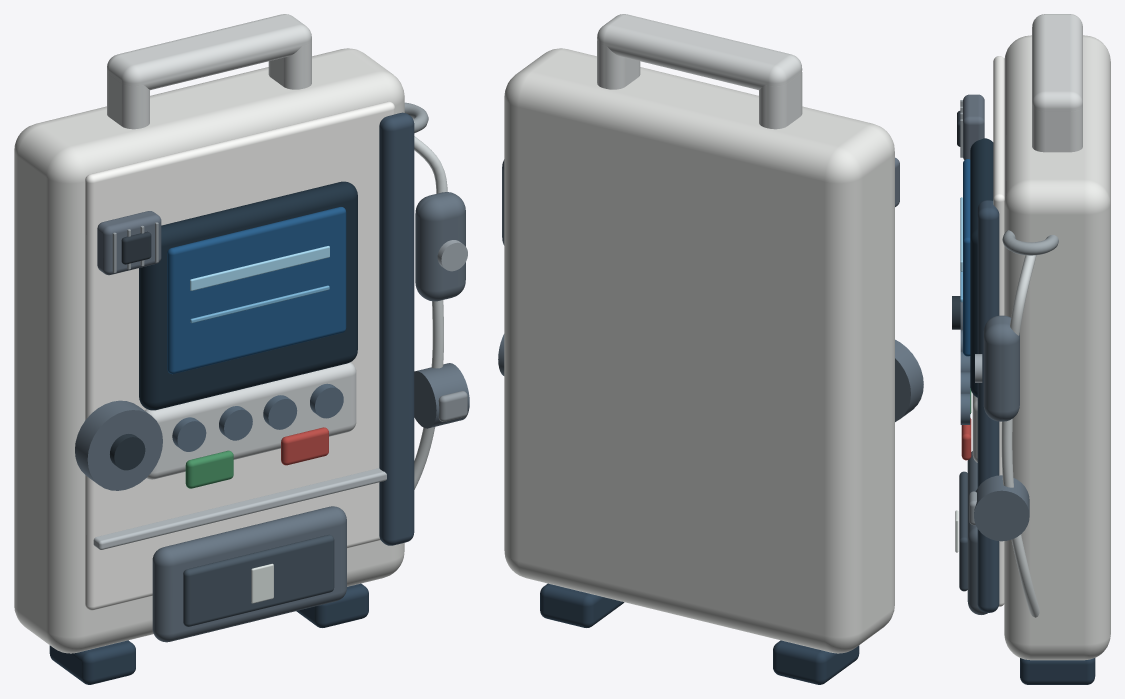
Rendered from infusion-pump.glb.
The picture shows the model from 3 angles, left to right: view 1: azimuth 30°, elevation 25°; view 2: azimuth 150°, elevation 25°; view 3: azimuth 270°, elevation 25°; orthographic projection. The views are drawn at different scales.
Visible parts, largest first — view 1: Outer Housing, Front Inset, Display Glass, Display Bezel, Right Service Rail, Battery Bay, Keypad Plate, Handle Top, Battery Cell, Motor Drum, Flow Sensor Body, Lower Divider (+20 smaller); view 2: Outer Housing, Handle Top, Left Foot, Right Foot, Handle Left, Motor Drum, Handle Right; view 3: Outer Housing, Right Service Rail, Handle Top, Flow Sensor Body, Front Inset, Occlusion Clamp, Display Bezel, Infusion Tube, Handle Right, Right Foot, Display Glass, Battery Bay (+7 smaller).
Boxes of the visible parts, x1,y1,x2,y2 form: Outer Housing: [14, 48, 404, 653]; Front Inset: [85, 101, 394, 610]; Display Glass: [167, 207, 346, 374]; Display Bezel: [139, 181, 357, 410]; Right Service Rail: [379, 112, 414, 545]; Battery Bay: [152, 506, 346, 642]; Keypad Plate: [144, 362, 356, 479]; Handle Top: [107, 14, 311, 90]; Battery Cell: [183, 534, 334, 626]; Motor Drum: [75, 400, 162, 490]; Flow Sensor Body: [415, 192, 465, 301]; Lower Divider: [93, 468, 386, 549]; Outer Housing: [504, 48, 894, 653]; Handle Top: [597, 14, 802, 90]; Left Foot: [773, 640, 859, 684]; Right Foot: [540, 583, 624, 627]; Handle Left: [759, 72, 802, 129]; Motor Drum: [895, 339, 923, 421]; Handle Right: [597, 40, 640, 89]; Outer Housing: [1004, 35, 1110, 660]; Right Service Rail: [977, 200, 999, 612]; Handle Top: [1032, 14, 1082, 111]; Flow Sensor Body: [983, 315, 1019, 421]; Front Inset: [993, 56, 1004, 606]; Occlusion Clamp: [974, 475, 1029, 541]; Display Bezel: [970, 138, 993, 397]; Infusion Tube: [1001, 255, 1039, 617]; Handle Right: [1032, 106, 1082, 152]; Right Foot: [1020, 658, 1095, 684]; Display Glass: [963, 159, 970, 356]; Battery Bay: [967, 451, 987, 614].
Bounding box in the file's own units: 3.62 × 5.17 × 1.31.
